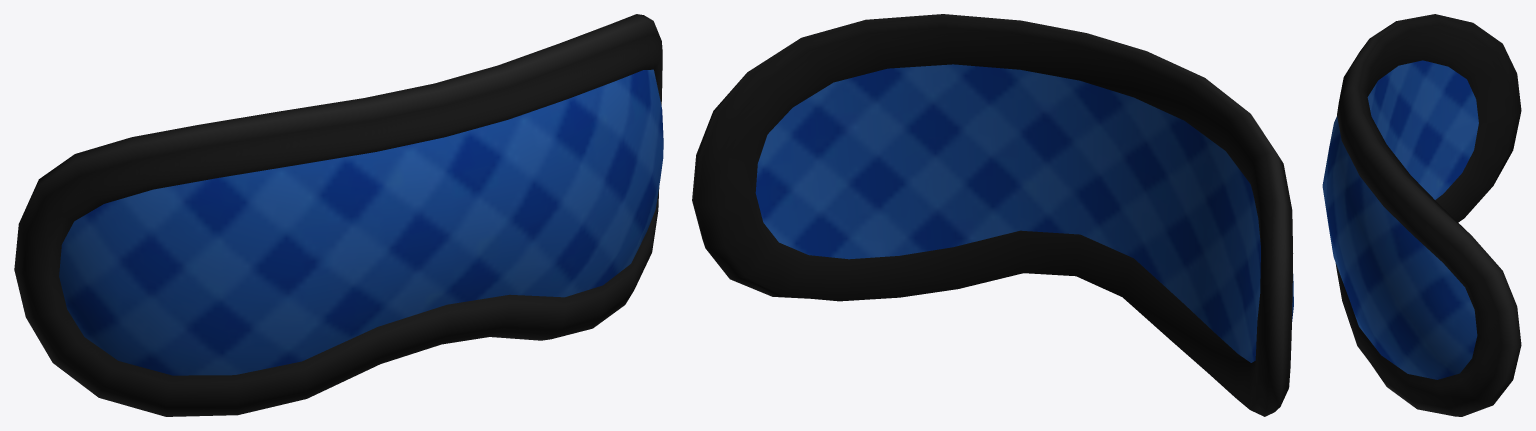
File: AccessoryGlassMask0.glb
3 renders of one model, left to right at view 1: azimuth 30°, elevation 25°; view 2: azimuth 150°, elevation 25°; view 3: azimuth 270°, elevation 25°, orthographic. The views are drawn at different scales.
Visible parts, largest first — view 1: Accessory__mAccessory; view 2: Accessory__mAccessory; view 3: Accessory__mAccessory.
Boxes of the visible parts, <box> form: Accessory__mAccessory: <box>14,14,663,416</box>; Accessory__mAccessory: <box>692,14,1293,416</box>; Accessory__mAccessory: <box>1322,14,1521,416</box>.
Bounding box in the file's own units: 6.32 × 2.93 × 2.21.
Materials: 1 (1 with a texture image).
